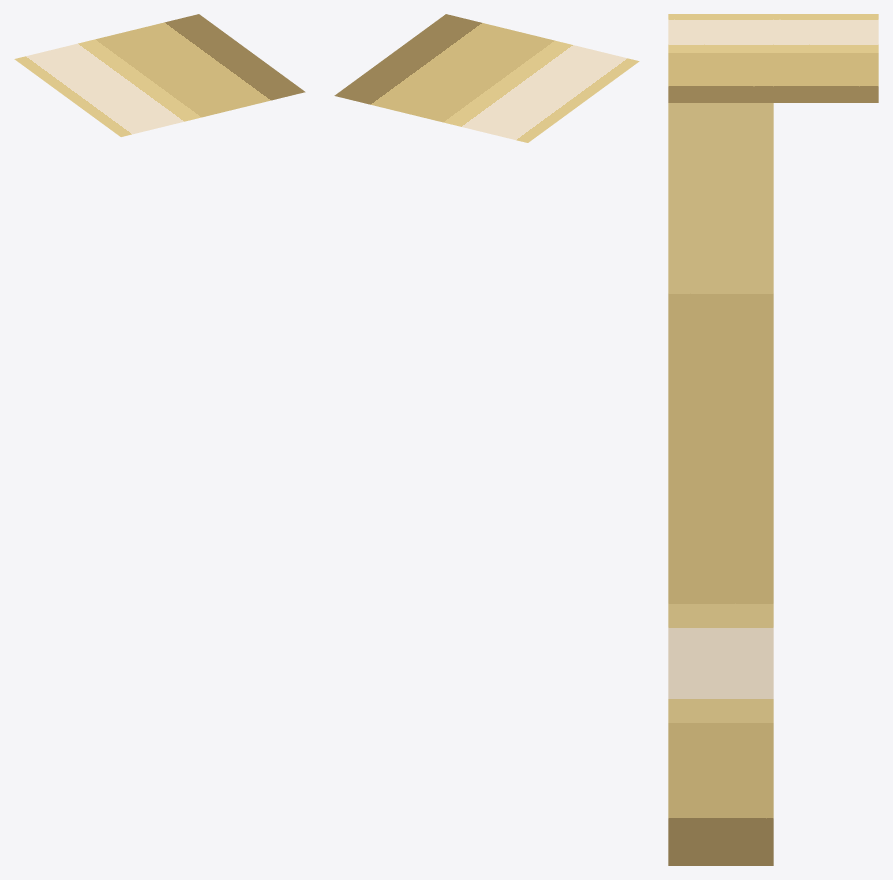
3 views of the same model, side by side, from view 1: azimuth 30°, elevation 25°; view 2: azimuth 150°, elevation 25°; view 3: azimuth 270°, elevation 25° (orthographic). The views are drawn at different scales.
Bounding box in the file's own units: 1 × 4 × 1.
Materials: 1 (1 with a texture image).
